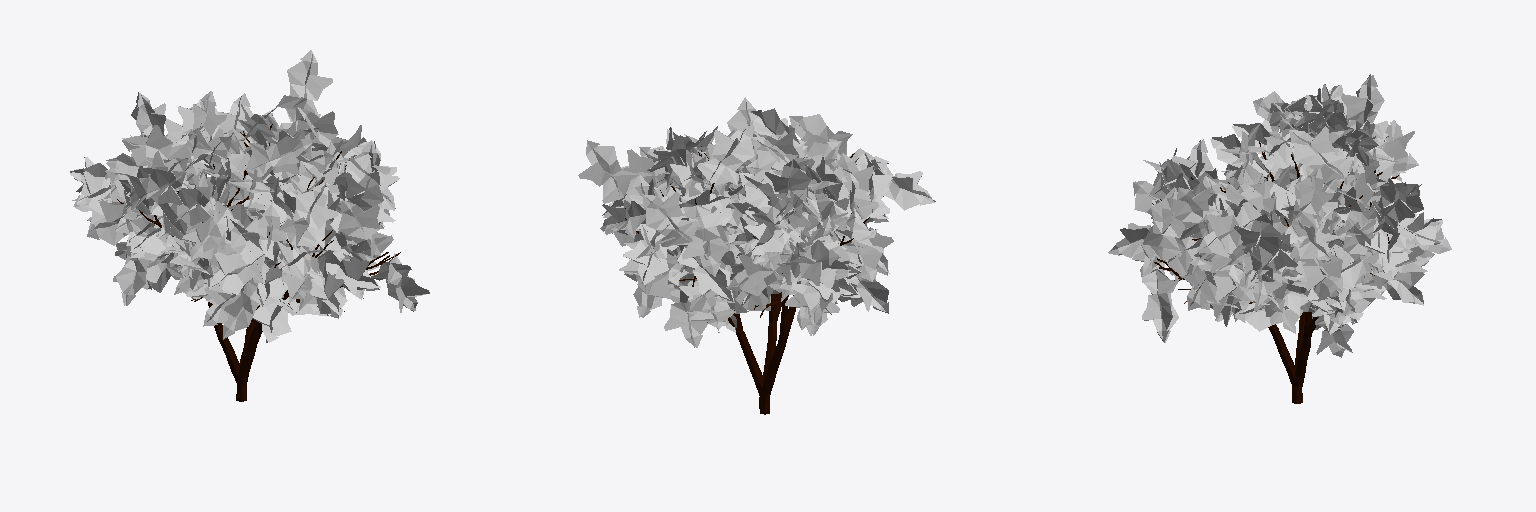
Rendered from tree.obj.
3 renders of one model, left to right at view 1: azimuth 30°, elevation 25°; view 2: azimuth 150°, elevation 25°; view 3: azimuth 270°, elevation 25°, orthographic.
Parts seen in each view (by area): view 1: Tree_Branch, tree; view 2: Tree_Branch, tree; view 3: Tree_Branch, tree.
Boxes of the visible parts, x1=… form: Tree_Branch: x1=70, y1=50, x2=429, y2=342; tree: x1=117, y1=124, x2=400, y2=401; Tree_Branch: x1=578, y1=97, x2=935, y2=347; tree: x1=625, y1=146, x2=869, y2=414; Tree_Branch: x1=1108, y1=74, x2=1451, y2=357; tree: x1=1152, y1=141, x2=1398, y2=403.
Size of the model in its own units: 6.82 by 7.01 by 7.38.